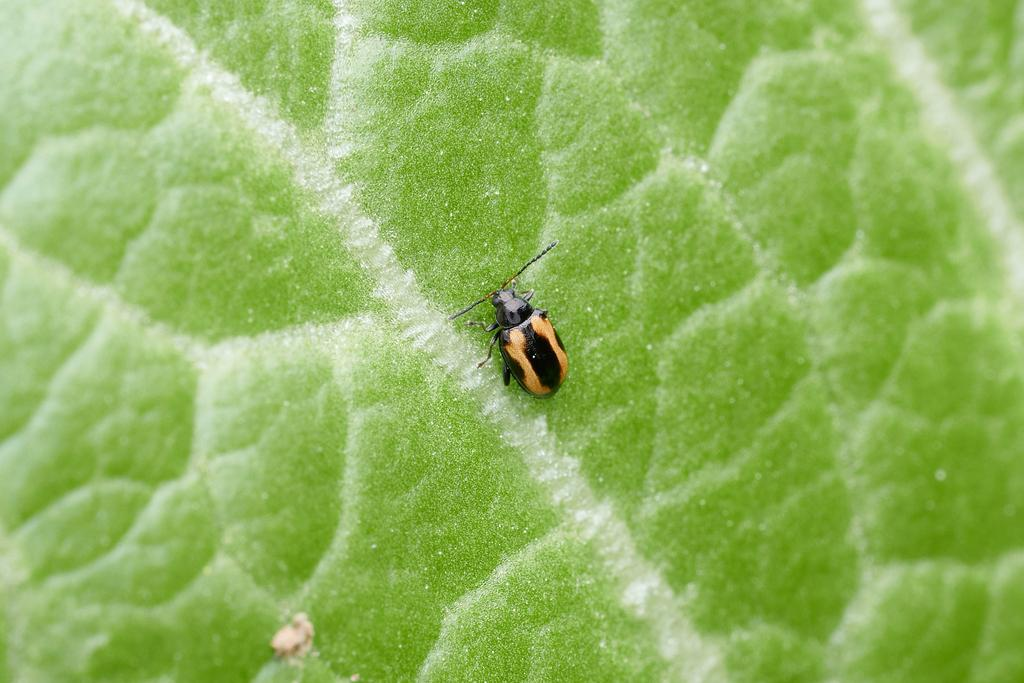flea_beetle: (409, 209, 620, 437)
